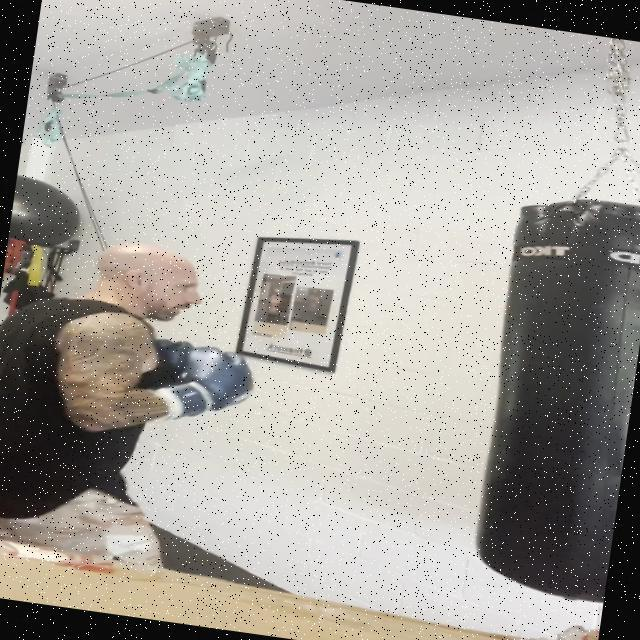bag: (445, 181, 640, 600)
no punch: (0, 217, 313, 456)
